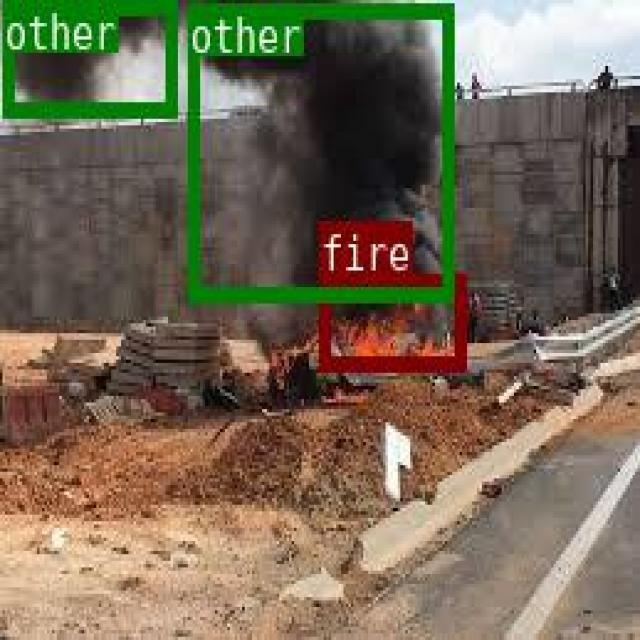fire: (318, 271, 462, 367)
